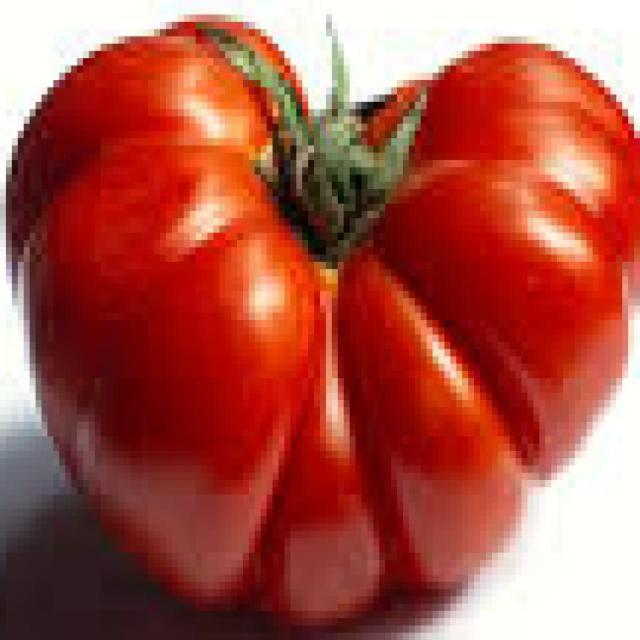Healthy Fruit: (8, 8, 427, 419)
